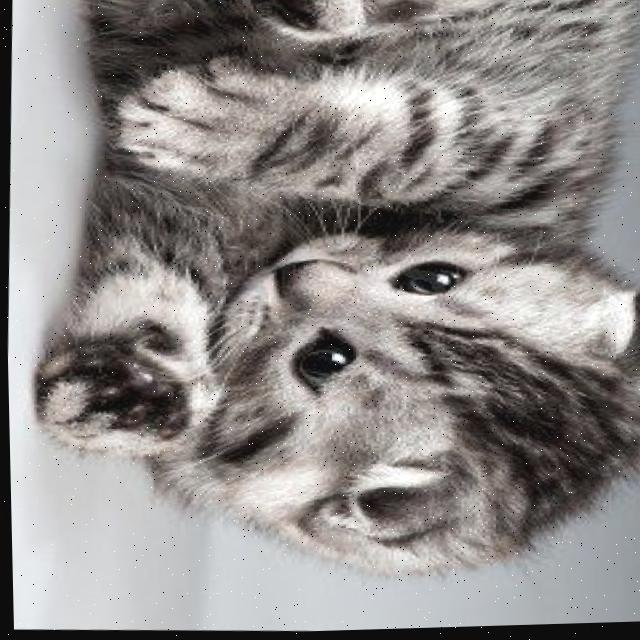Scottish Fold: (12, 0, 640, 605)
